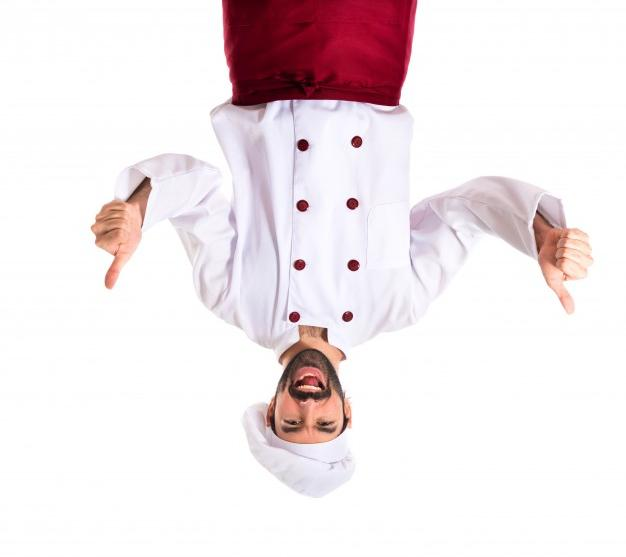thumbsdown: (90, 201, 131, 289), (552, 228, 593, 315)
